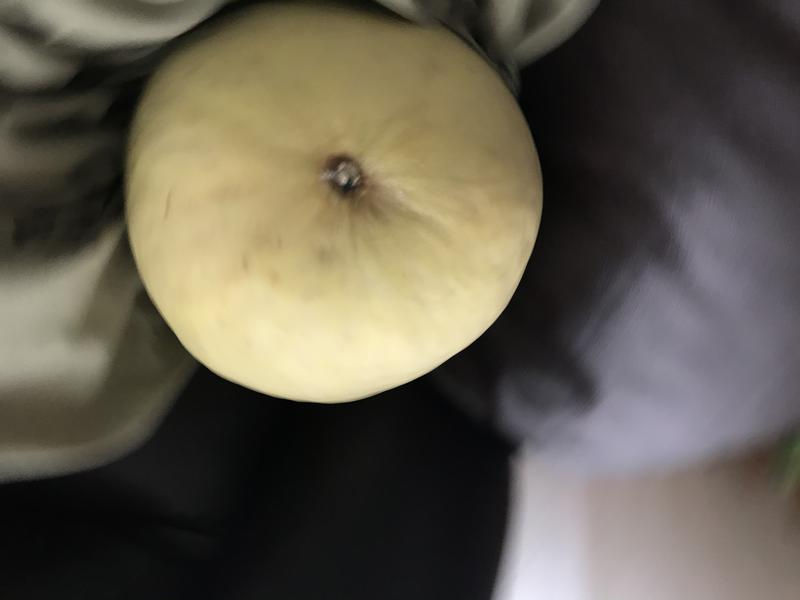honeydew: (125, 3, 547, 417)
